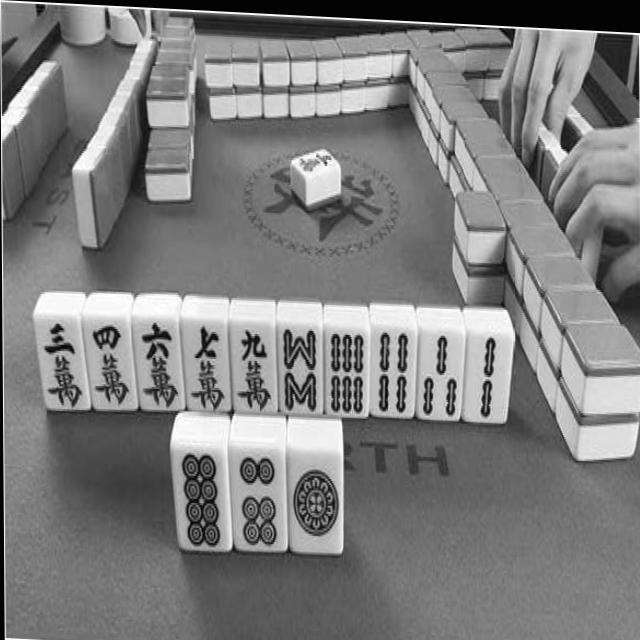m3: (36, 316, 89, 412)
m4: (84, 317, 135, 411)
m5: (231, 325, 276, 413)
m6: (132, 314, 184, 412)
m7: (183, 321, 230, 413)
s2: (468, 333, 509, 425)
s3: (416, 332, 462, 422)
s4: (372, 329, 416, 420)
s6: (326, 328, 370, 419)
s8: (280, 326, 322, 416)
t1: (289, 450, 344, 553)
t6: (229, 448, 286, 553)
t8: (174, 448, 231, 553)
